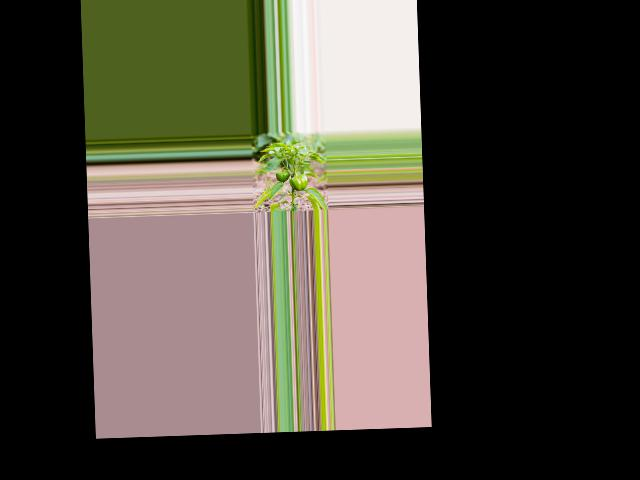bell_pepper: (274, 168, 289, 183)
